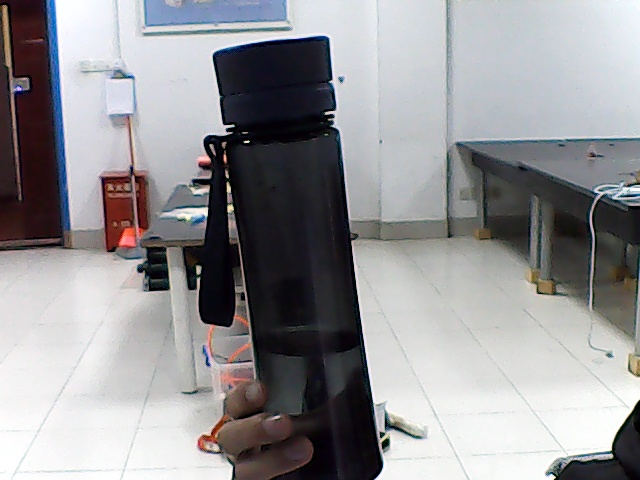cup: (244, 51, 336, 363)
